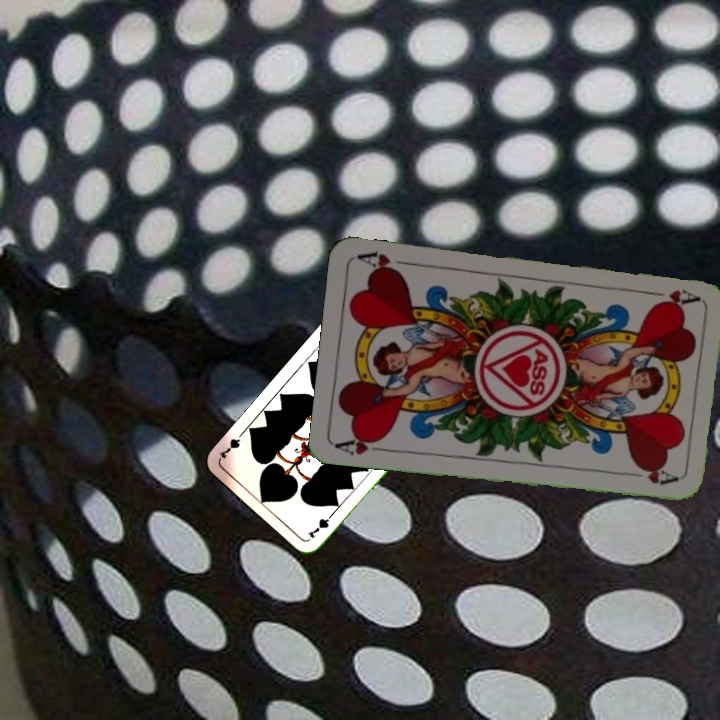G7: (304, 507, 337, 541)
HA: (333, 431, 392, 458), (641, 285, 701, 307)
